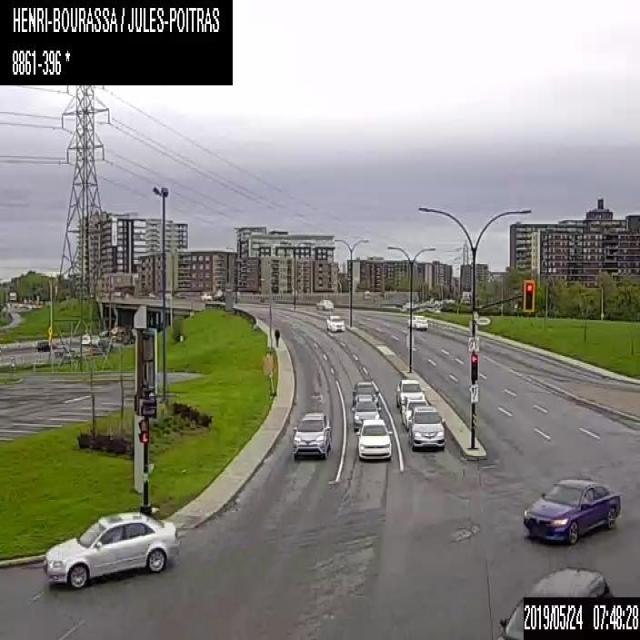pedestrian: (274, 327, 279, 348)
vehicle: (40, 509, 179, 591), (494, 565, 612, 639), (523, 475, 620, 544), (291, 409, 331, 460), (408, 405, 445, 450), (355, 418, 393, 461), (400, 393, 430, 430), (350, 393, 380, 429), (396, 378, 425, 409), (352, 380, 379, 404), (326, 314, 344, 332), (407, 314, 427, 330), (315, 298, 333, 310), (80, 332, 98, 344), (36, 339, 55, 350)
